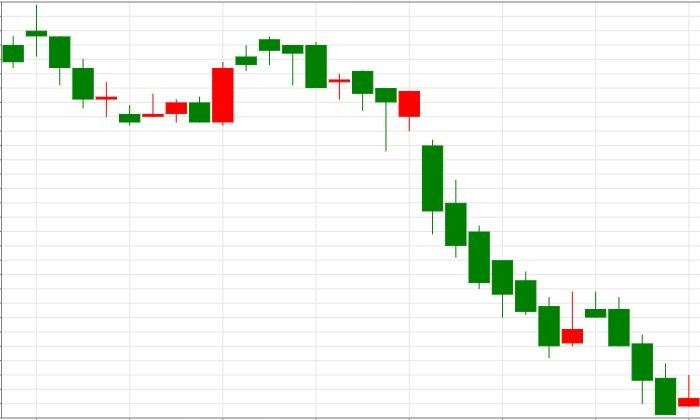bullish_engulfing_rise: (25, 4, 235, 126)
hammer_rise: (259, 36, 397, 151)
three_black_crows_fall: (538, 291, 677, 416)
